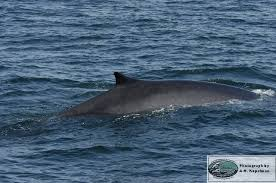fin: (47, 59, 264, 117)
